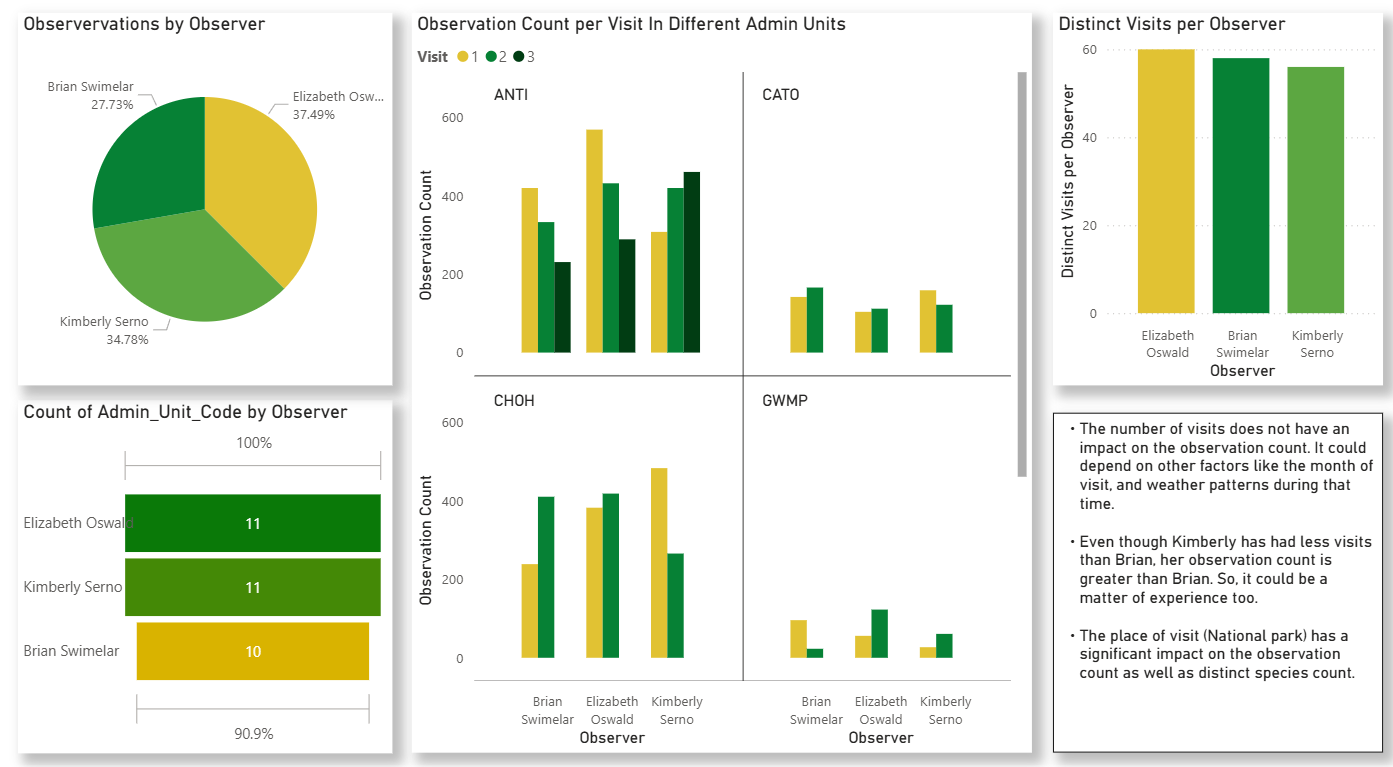

What the dashboard file says about the page in this screenshot:
{"tool":"powerbi","page":{"name":"Observer Analysis","canvas":[1280,720],"ordinal":3},"visuals":[{"type":"funnel","fields":{"Category":["cleaned_bird_dataset.Observer"],"Y":["Count(cleaned_bird_dataset.Admin_Unit_Code)"]},"box":[36.1,384.3,337.3,318.4],"z":0},{"type":"pieChart","fields":{"Category":["cleaned_bird_dataset.Observer"],"Y":["cleaned_bird_dataset.Observervations"]},"box":[36.1,34.5,337.3,335.7],"z":1000},{"type":"clusteredColumnChart","title":"Observation Count per Visit In Different Admin Units","fields":{"Category":["cleaned_bird_dataset.Observer"],"Y":["CountNonNull(cleaned_bird_dataset.Common_Name)"],"Series":["cleaned_bird_dataset.Visit"],"Rows":["cleaned_bird_dataset.Admin_Unit_Code"]},"box":[391.5,35.1,559.3,667.3],"z":2000},{"type":"textbox","box":[969.3,395.6,297.6,306.6],"z":3000},{"type":"clusteredColumnChart","title":"Distinct Visits per Observer","fields":{"Category":["cleaned_bird_dataset.Observer"],"Y":["cleaned_bird_dataset.Distinct Visits per Observer"]},"box":[969.3,34.9,297.6,335.9],"z":4000}]}

Visuals, with their boxes in screenshot pixels (x1, y1, x2, y2), scaled from the page's 1280x720 canvas onto the 1393x767 screenshot:
funnel - cleaned_bird_dataset.Observer x Count(cleaned_bird_dataset.Admin_Unit_Code): [39, 409, 406, 749]
pieChart - cleaned_bird_dataset.Observer x cleaned_bird_dataset.Observervations: [39, 37, 406, 394]
"Observation Count per Visit In Different Admin Units" clusteredColumnChart: [426, 37, 1035, 748]
textbox: [1055, 421, 1379, 748]
"Distinct Visits per Observer" clusteredColumnChart: [1055, 37, 1379, 395]
